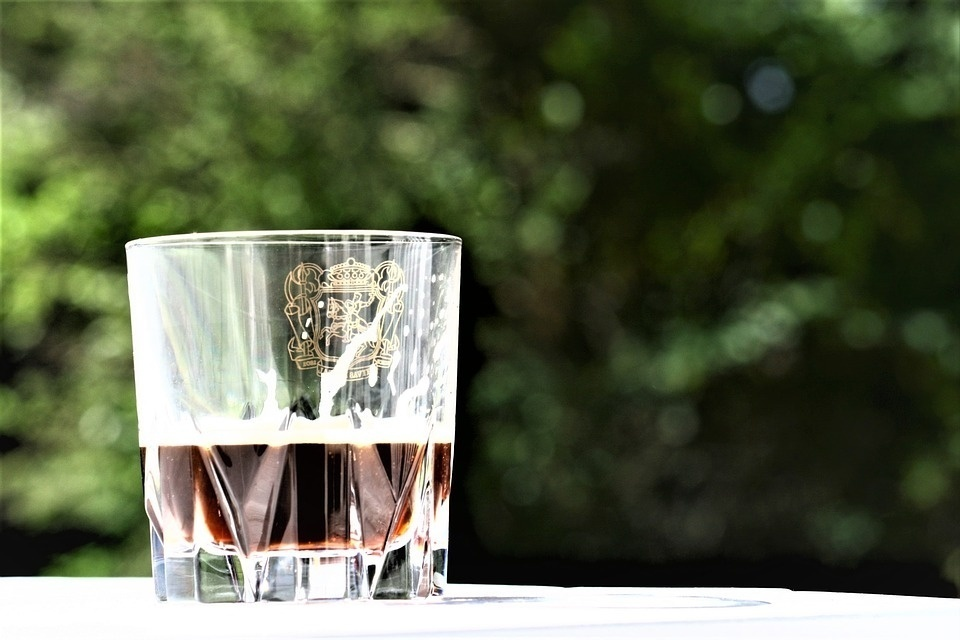whiskey: (134, 219, 467, 599)
